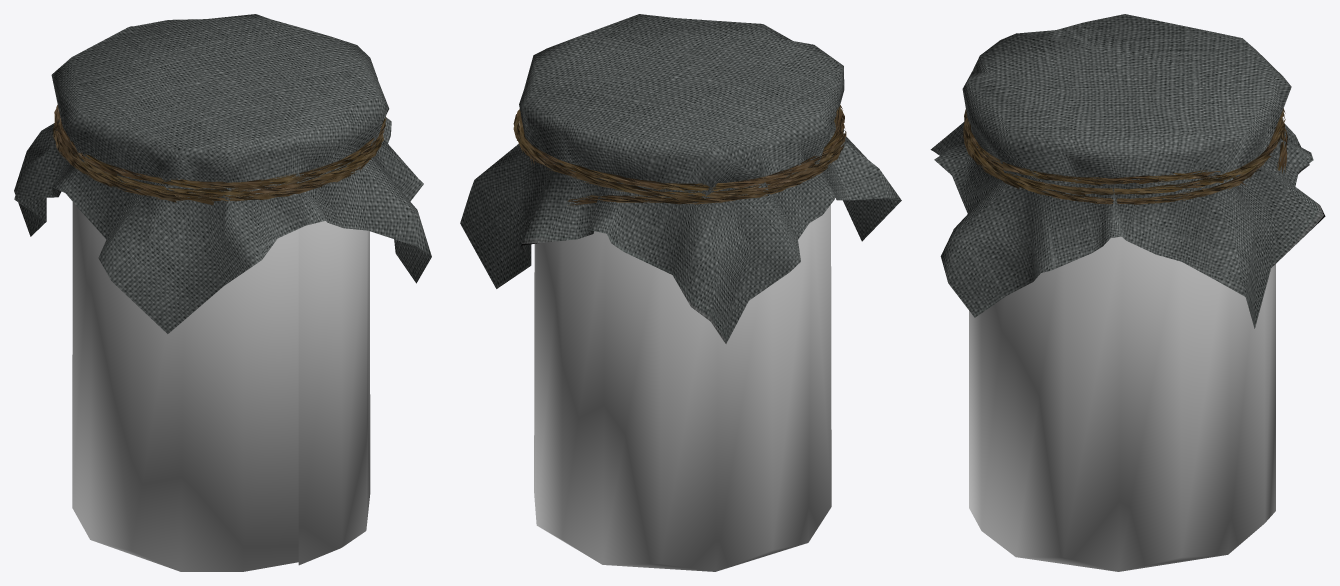
The model's file is glass_jar.glb.
The picture shows the model from 3 angles, left to right: view 1: azimuth 30°, elevation 25°; view 2: azimuth 150°, elevation 25°; view 3: azimuth 270°, elevation 25°; orthographic projection.
Visible parts, largest first — view 1: Object_3, Object_2, Object_4; view 2: Object_3, Object_2, Object_4; view 3: Object_3, Object_2, Object_4.
Boxes of the visible parts, x1,y1,x2,y2 form: Object_3: (72,202,370,571); Object_2: (14,14,431,333); Object_4: (53,105,386,205); Object_3: (534,205,831,571); Object_2: (460,14,901,343); Object_4: (513,105,846,206); Object_3: (969,236,1275,571); Object_2: (930,14,1325,328); Object_4: (963,108,1287,204).
Size of the model in its own units: 6.02 by 7.69 by 6.26.
3 materials, 2 textured.
